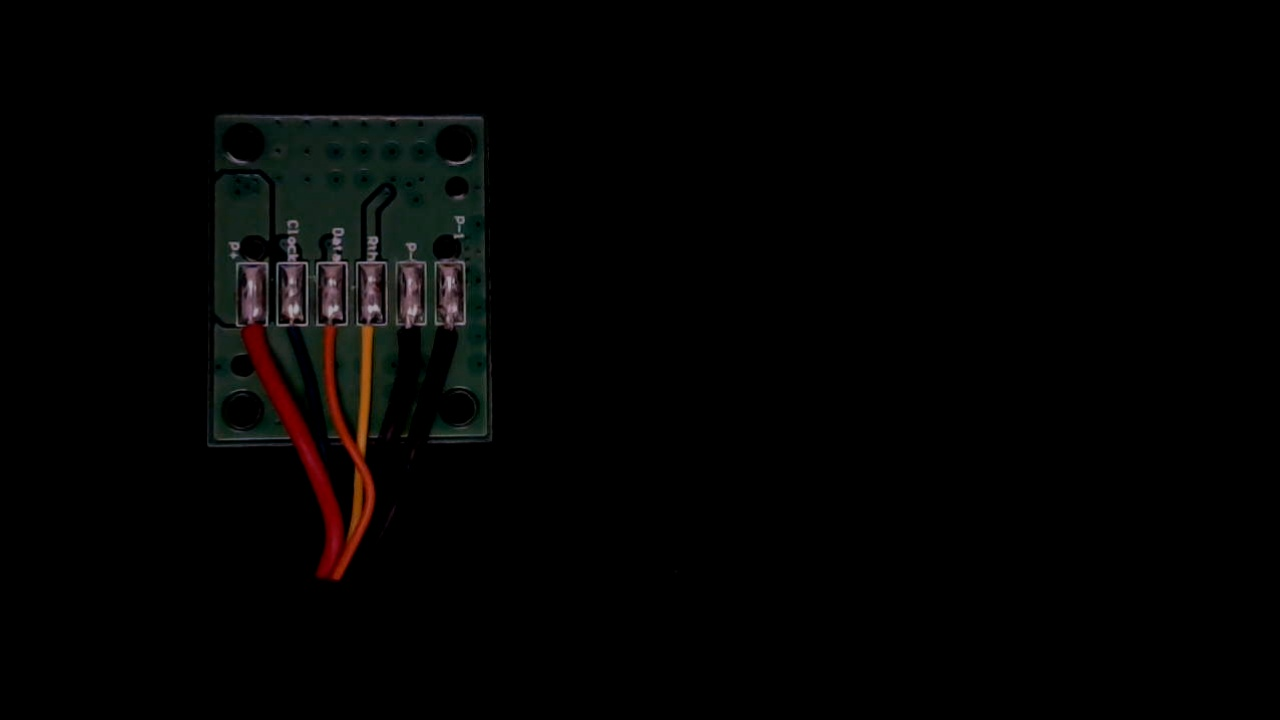Black: (394, 301, 428, 374)
Black1: (433, 302, 466, 369)
Green: (276, 301, 311, 371)
Orange: (316, 302, 348, 374)
Red: (233, 301, 268, 371)
Yellow: (354, 301, 388, 375)
